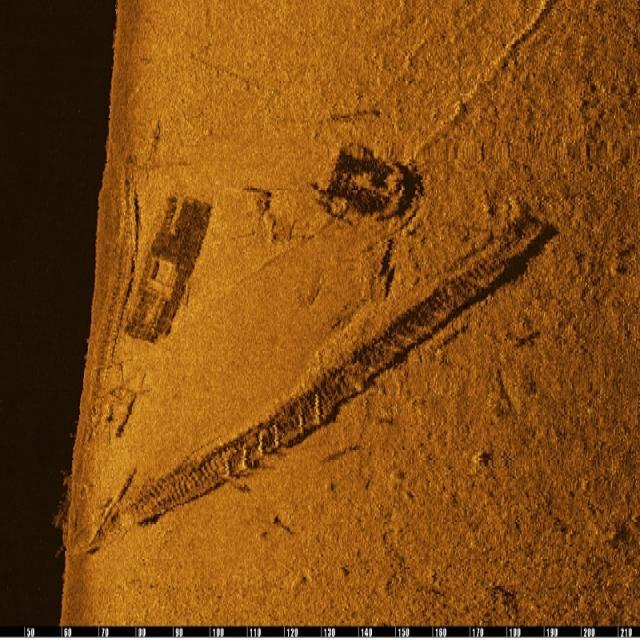shipwreck: (131, 218, 543, 522), (124, 191, 210, 342), (314, 144, 424, 223)
